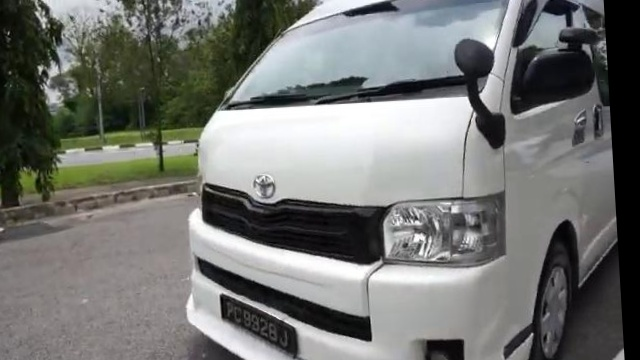van: (168, 0, 620, 360)
